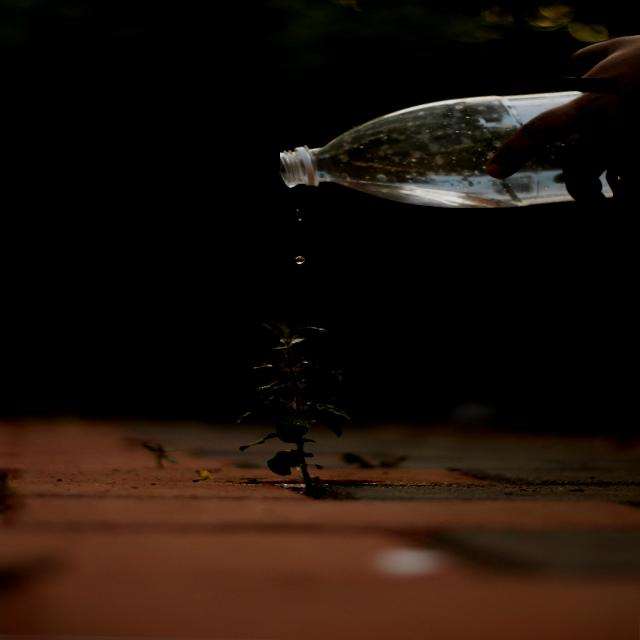Bottle: (280, 79, 576, 207)
